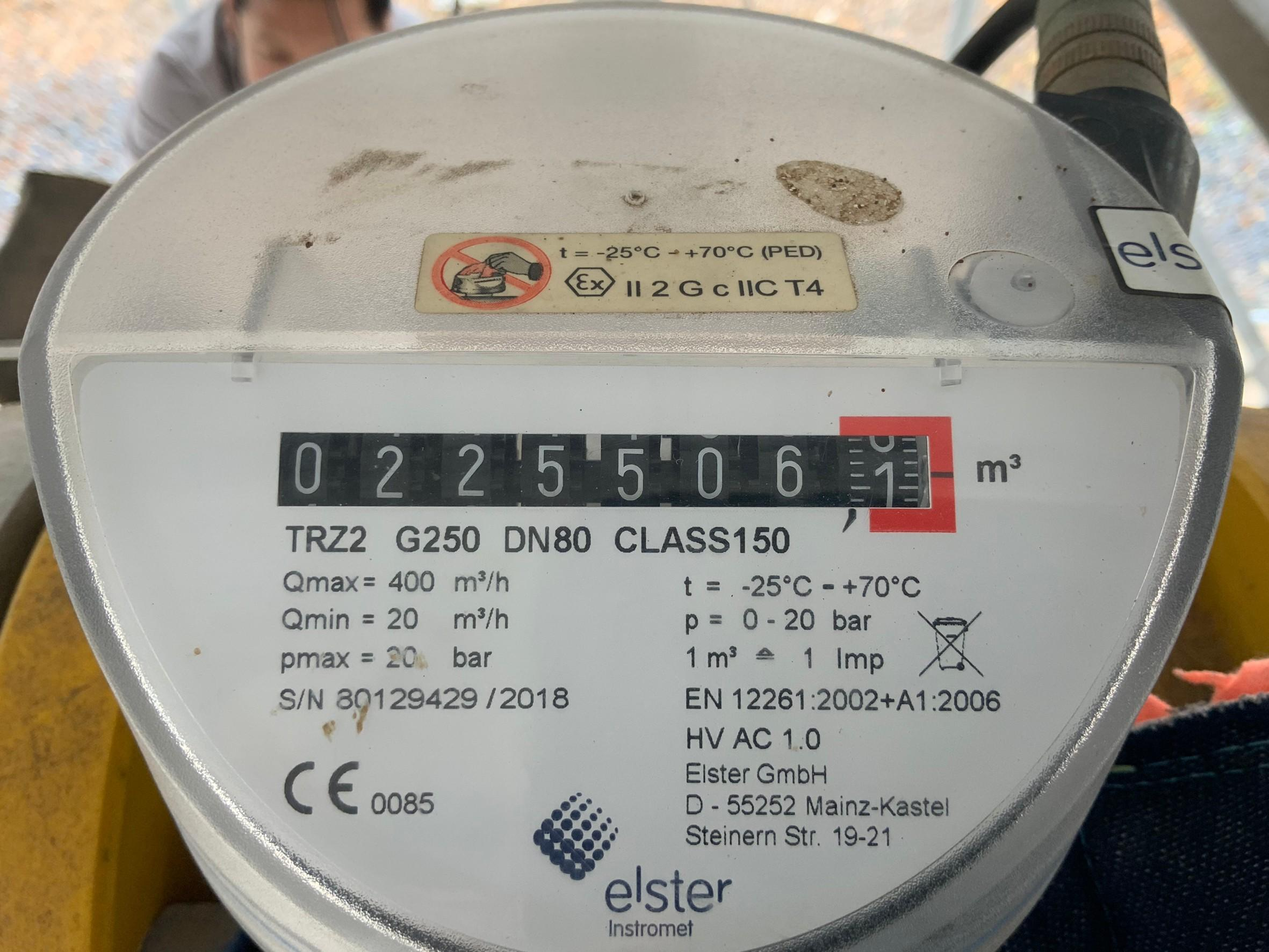analog_dial: (269, 387, 964, 539)
